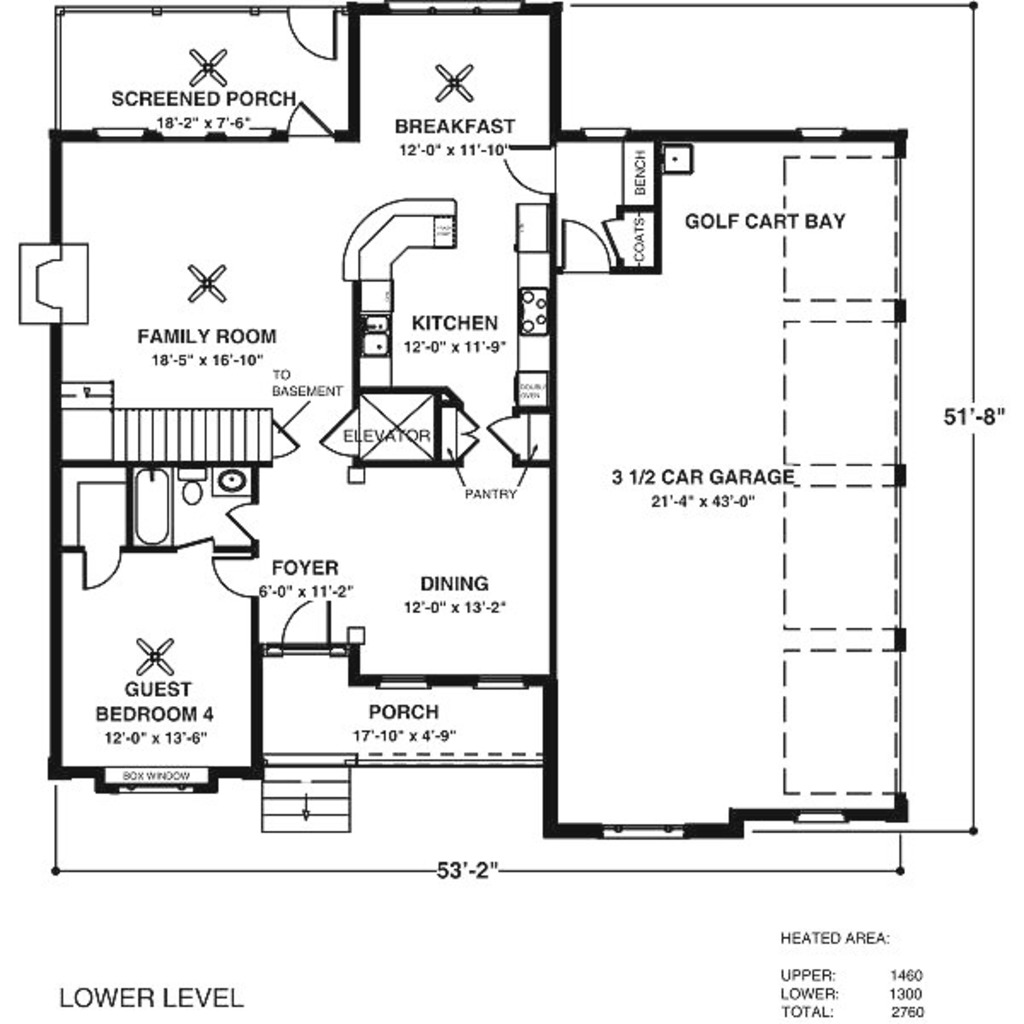door: (500, 139, 563, 200), (277, 7, 343, 64), (274, 595, 331, 659), (555, 216, 614, 272), (209, 554, 258, 605), (80, 543, 127, 593)
kitchen_bar: (336, 189, 460, 282)
stairs: (50, 374, 284, 469), (258, 758, 354, 837)
tub: (134, 464, 180, 550), (555, 213, 610, 275)
windows: (587, 817, 691, 845)
